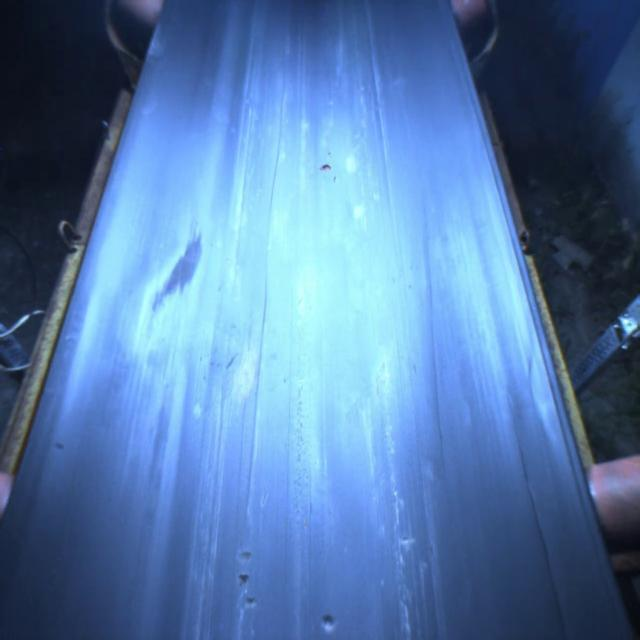Hole: (314, 613, 342, 631), (316, 156, 333, 180), (238, 596, 264, 610), (236, 547, 256, 565), (236, 572, 253, 587)
Puncture: (397, 533, 413, 545)
Tear: (237, 95, 297, 535)
Wear: (140, 232, 213, 321)
